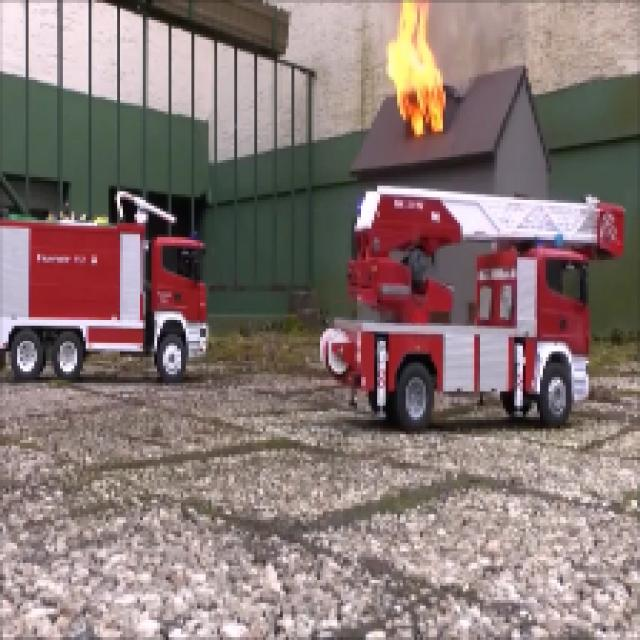fire: (382, 4, 455, 133)
